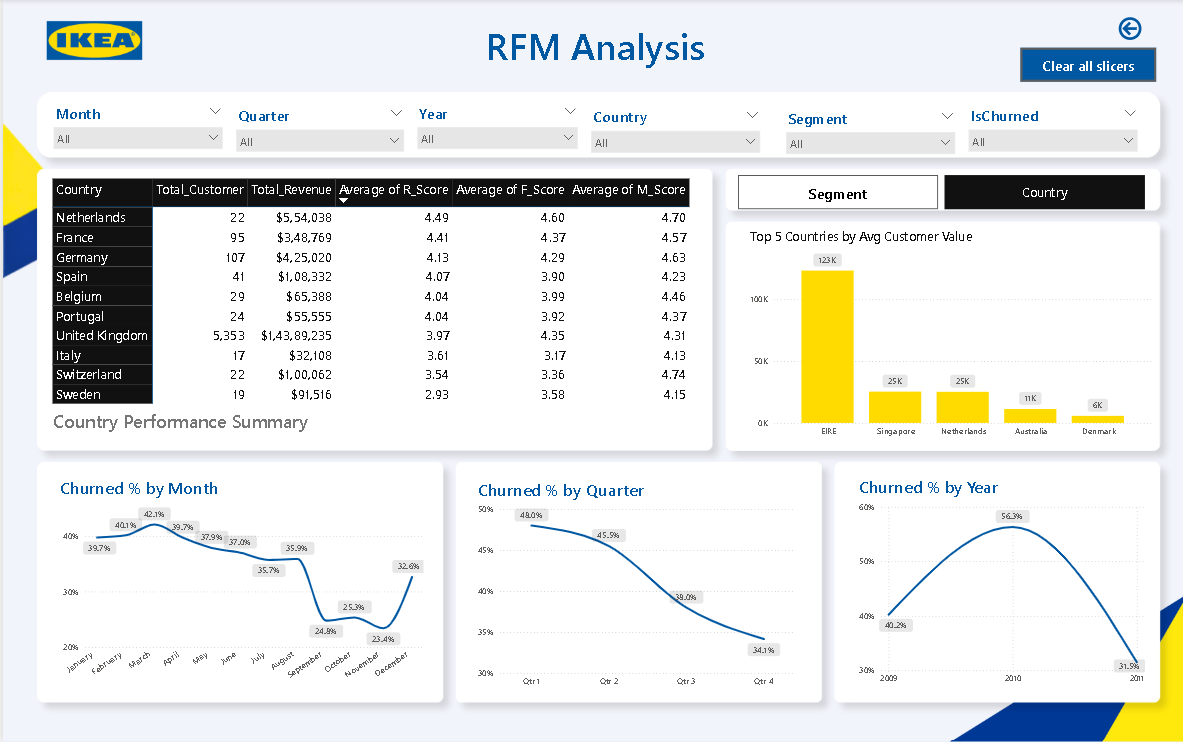

The page's visual inventory and layout, read from the dashboard file:
{"tool":"powerbi","page":{"name":"RFM","canvas":[1750,1100],"ordinal":2},"visuals":[{"type":"slicer","fields":{"Values":["Sheet1.InvoiceDate.Variation.Date Hierarchy.Quarter"]},"box":[333.6,151.1,267.3,81.1],"z":0},{"type":"pivotTable","fields":{"Values":["Sheet1.Total_Customer","Sheet1.Total_Revenue","Avg(Sheet1.R_Score)","Avg(Sheet1.F_Score)","Avg(Sheet1.M_Score)"],"Rows":["Sheet1.Country"]},"box":[68,260,960,396],"z":0,"group":"g2"},{"type":"lineChart","title":"Churned % by Year","fields":{"Category":["Sheet1.InvoiceMonth.Variation.Date Hierarchy.Year"],"Y":["Sheet1.Churned %"]},"box":[1257.4,701.9,432,318],"z":0,"group":"g1"},{"type":"columnChart","title":"Top 5 Countries by Avg Customer Value","fields":{"Y":["Sheet1.Avg Customer Value"],"Category":["Sheet1.Country"]},"box":[1096,338,604,318],"z":500,"group":"g2"},{"type":"slicer","fields":{"Values":["Sheet1.InvoiceDate.Variation.Date Hierarchy.Month"]},"box":[64.5,147.5,269.1,81.1],"z":1000},{"type":"textbox","box":[68,600,402,56],"z":1000,"group":"g2"},{"type":"lineChart","title":"Churned % by Quarter","fields":{"Category":["Sheet1.InvoiceMonth.Variation.Date Hierarchy.Quarter"],"Y":["Sheet1.Churned %"]},"box":[695.4,705.9,478,318],"z":1000,"group":"g1"},{"type":"slicer","fields":{"Values":["Sheet1.InvoiceDate.Variation.Date Hierarchy.Year"]},"box":[600.9,147.5,256.2,81.1],"z":2000},{"type":"lineChart","title":"Churned %  by Month","fields":{"Category":["Sheet1.InvoiceMonth.Variation.Date Hierarchy.Month"],"Y":["Sheet1.Churned %"]},"box":[79.4,703.9,546,318],"z":2000,"group":"g1"},{"type":"slicer","fields":{"Values":["Sheet1.Country"]},"box":[857.1,153,269.1,75.6],"z":3000},{"type":"slicer","fields":{"Values":["Sheet1.Segment"]},"box":[1144.6,154.8,269.1,75.6],"z":4000},{"type":"slicer","fields":{"Values":["Sheet1.IsChurned"]},"box":[1413.7,151.1,269.1,75.6],"z":5000},{"type":"group","id":"g1","title":"Customer","box":[79.4,701.9,1610,322],"z":6000},{"type":"bookmarkNavigator","box":[1084,260,600,50],"z":8000},{"type":"image","box":[0,0,270,122],"z":9000},{"type":"textbox","box":[707,28,336,94],"z":10000},{"type":"actionButton","box":[1640,22,100,40],"z":11000},{"type":"actionButton","box":[1500,72,200,50],"z":12000},{"type":"group","id":"g2","title":"Country","box":[68,260,1632,396],"z":16000}]}

Visuals, with their boxes in screenshot pixels (x1, y1, x2, y2), scaled from the page's 1750x1100 canvas onto the 1183x742 screenshot:
slicer - Sheet1.InvoiceDate.Variation.Date Hierarchy.Quarter: {"left": 226, "top": 102, "right": 406, "bottom": 157}
pivotTable - Sheet1.Total_Customer x Sheet1.Total_Revenue: {"left": 46, "top": 175, "right": 695, "bottom": 443}
"Churned % by Year" lineChart: {"left": 850, "top": 473, "right": 1142, "bottom": 688}
"Top 5 Countries by Avg Customer Value" columnChart: {"left": 741, "top": 228, "right": 1149, "bottom": 443}
slicer - Sheet1.InvoiceDate.Variation.Date Hierarchy.Month: {"left": 44, "top": 99, "right": 226, "bottom": 154}
textbox: {"left": 46, "top": 405, "right": 318, "bottom": 443}
"Churned % by Quarter" lineChart: {"left": 470, "top": 476, "right": 793, "bottom": 691}
slicer - Sheet1.InvoiceDate.Variation.Date Hierarchy.Year: {"left": 406, "top": 99, "right": 579, "bottom": 154}
"Churned %  by Month" lineChart: {"left": 54, "top": 475, "right": 423, "bottom": 689}
slicer - Sheet1.Country: {"left": 579, "top": 103, "right": 761, "bottom": 154}
slicer - Sheet1.Segment: {"left": 774, "top": 104, "right": 956, "bottom": 155}
slicer - Sheet1.IsChurned: {"left": 956, "top": 102, "right": 1138, "bottom": 153}
"Customer" group: {"left": 54, "top": 473, "right": 1142, "bottom": 691}
bookmarkNavigator: {"left": 733, "top": 175, "right": 1138, "bottom": 209}
image: {"left": 0, "top": 0, "right": 183, "bottom": 82}
textbox: {"left": 478, "top": 19, "right": 705, "bottom": 82}
actionButton: {"left": 1109, "top": 15, "right": 1176, "bottom": 42}
actionButton: {"left": 1014, "top": 49, "right": 1149, "bottom": 82}
"Country" group: {"left": 46, "top": 175, "right": 1149, "bottom": 443}
